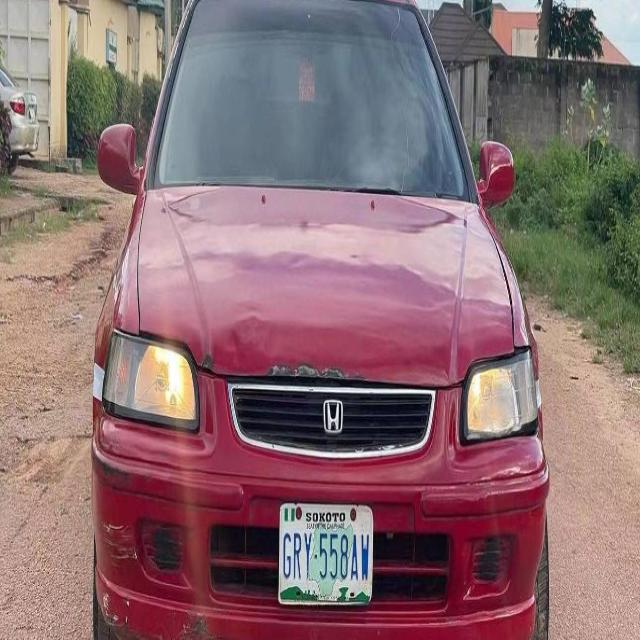Nigerian License Plate - vdataset benjamin-daria: (278, 497, 375, 610)
